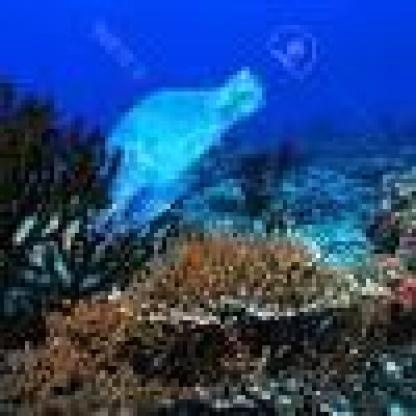pbag: (88, 66, 270, 228)
